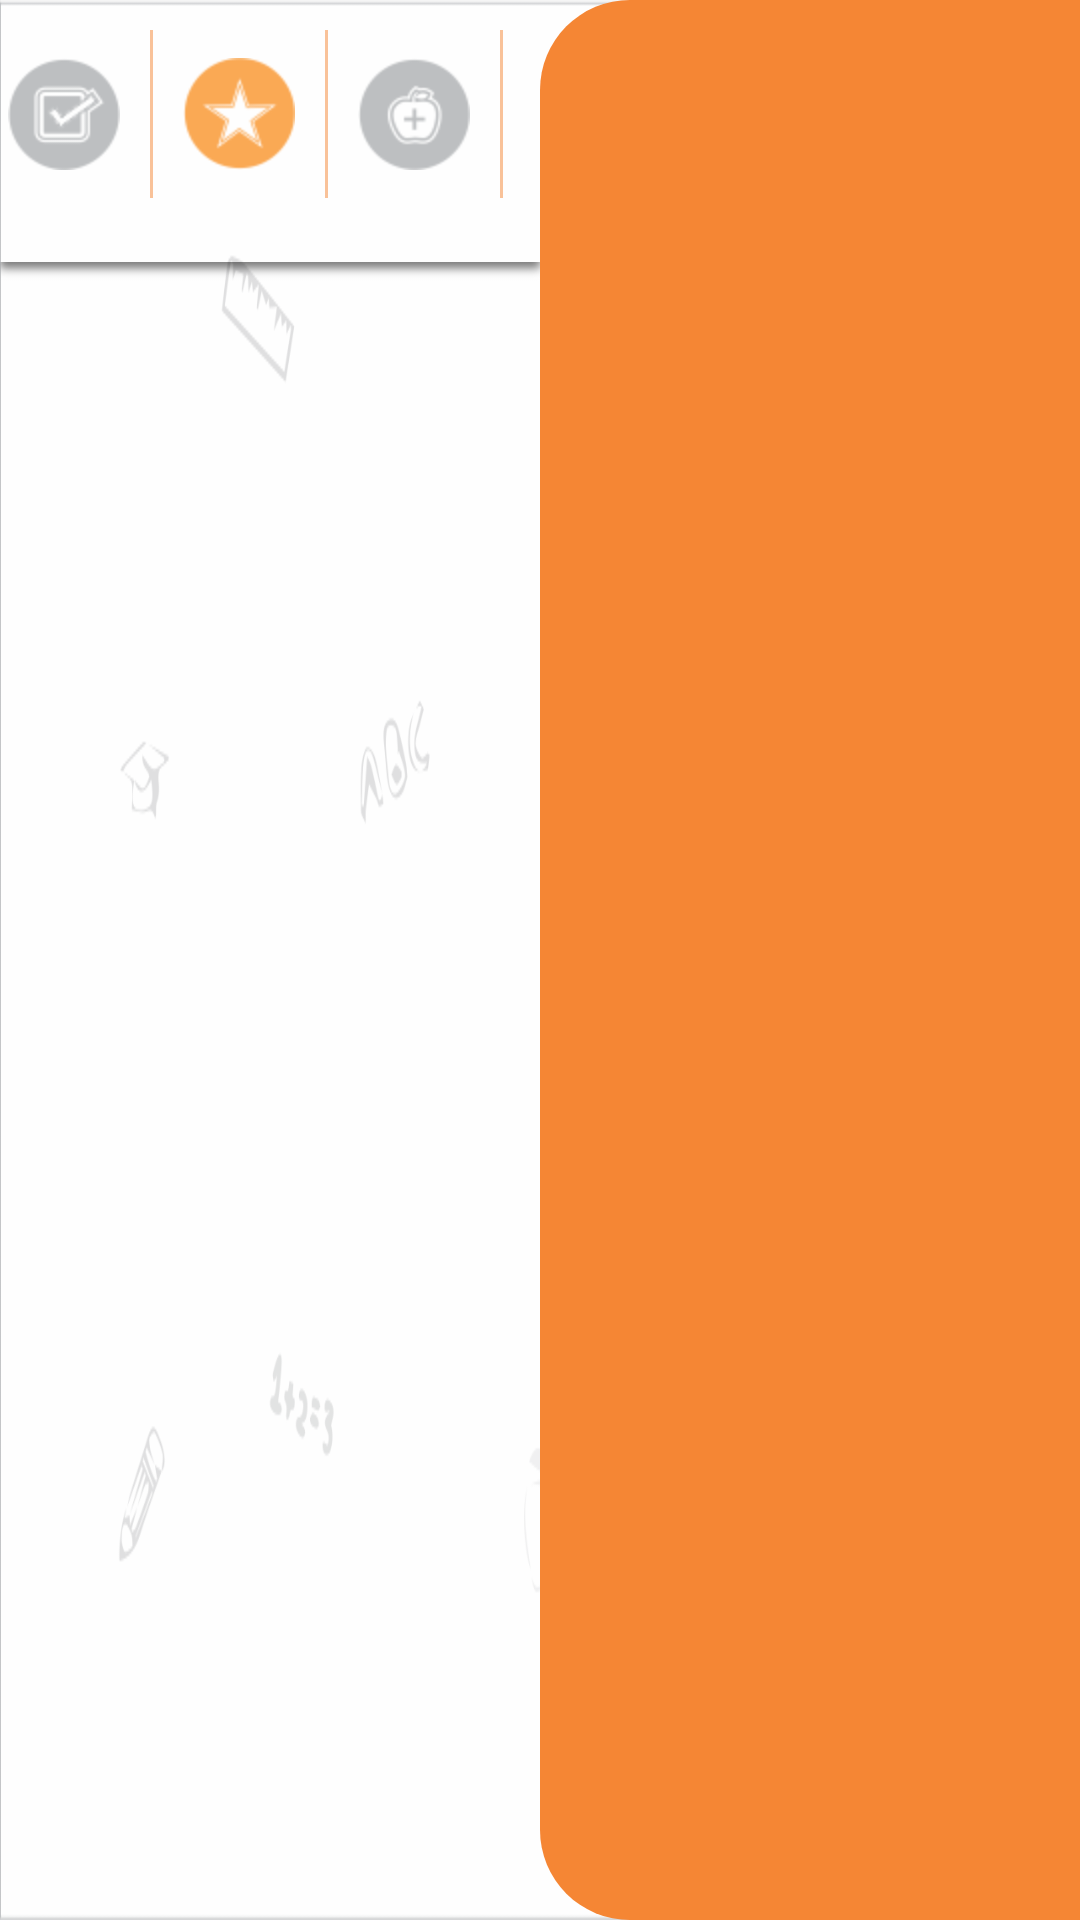

Screen size 1080 × 1920. Icon name, then its box in pixels as {"x1": x1, "y1": y1, "x2": x2, "y2": y2}:
attendance: {"x1": 8, "y1": 60, "x2": 120, "y2": 170}
health: {"x1": 360, "y1": 60, "x2": 470, "y2": 170}
progress: {"x1": 184, "y1": 58, "x2": 295, "y2": 169}
